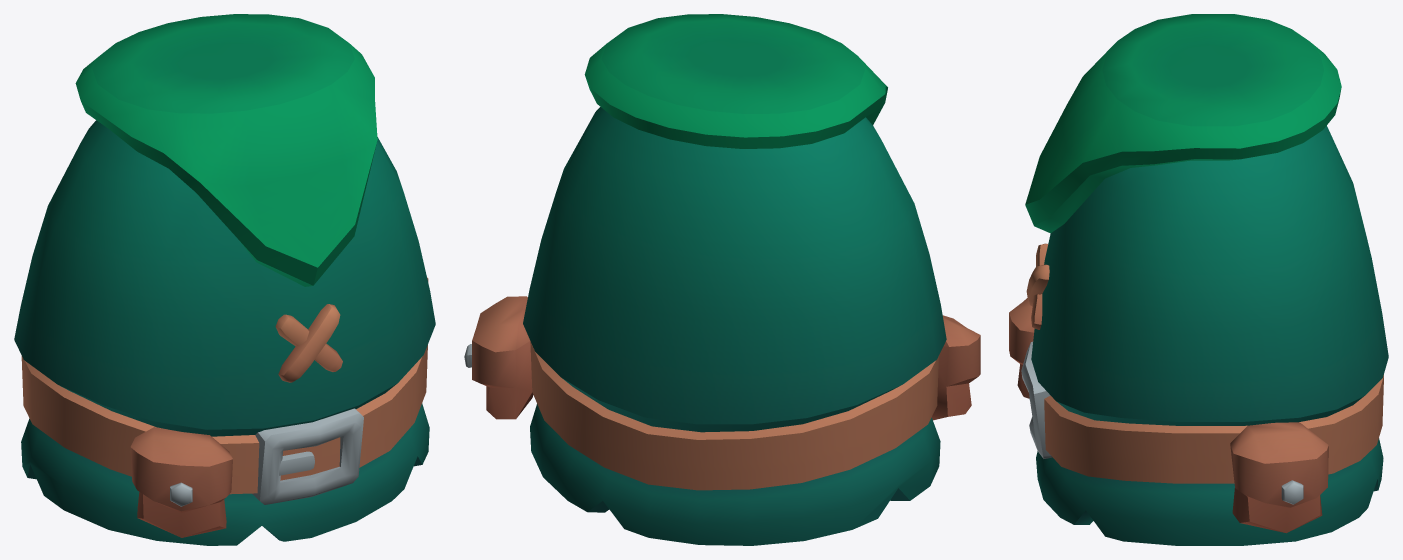
File: chest_leather-8-15-E8p.glb
3 renders of one model, left to right at view 1: azimuth 30°, elevation 25°; view 2: azimuth 150°, elevation 25°; view 3: azimuth 270°, elevation 25°, orthographic.
Parts seen in each view (by area): view 1: Rogue_Body; view 2: Rogue_Body; view 3: Rogue_Body.
Boxes of the visible parts, x1,y1,x2,y2 form: Rogue_Body: (14,14,435,545); Rogue_Body: (464,14,980,545); Rogue_Body: (1009,14,1388,545).
Bounding box in the file's own units: 0.8843 × 0.8729 × 0.708.
1 material, 1 textured.
